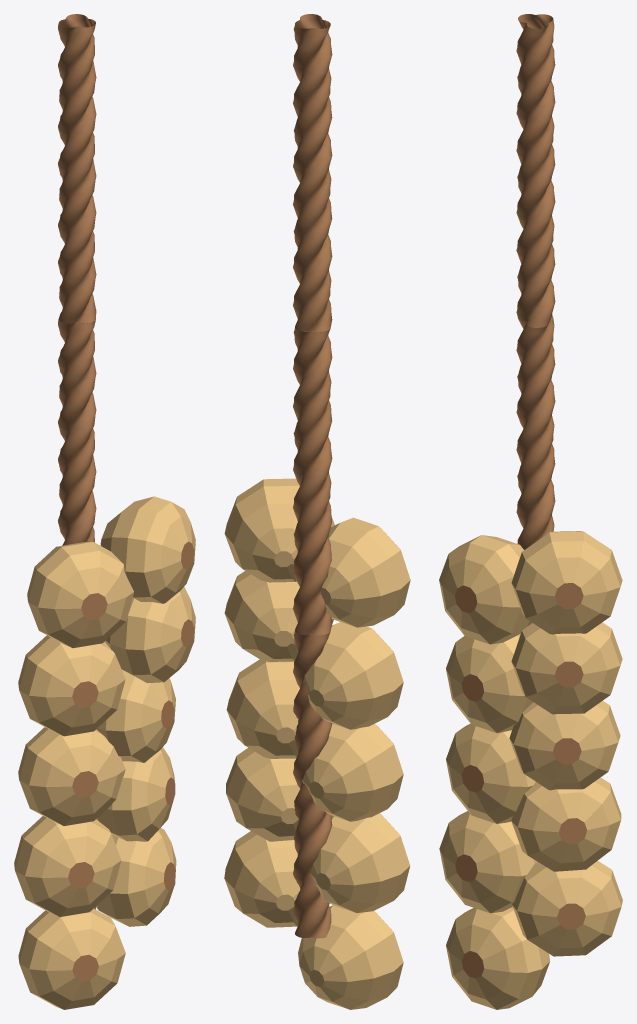
Rendered from Corda 3 + aglio fbx.fbx.
3 views of the same model, side by side, from view 1: azimuth 30°, elevation 25°; view 2: azimuth 150°, elevation 25°; view 3: azimuth 330°, elevation 25° (orthographic). The views are drawn at different scales.
Visible parts, largest first — view 1: Garlic.003, Rope 0 .002; view 2: Garlic.003, Rope 0 .002; view 3: Garlic.003, Rope 0 .002.
Boxes of the visible parts, left/top/right/bottom form: Garlic.003: left=14, top=496, right=195, bottom=1009; Rope 0 .002: left=58, top=14, right=96, bottom=909; Garlic.003: left=224, top=478, right=410, bottom=1009; Rope 0 .002: left=293, top=14, right=332, bottom=938; Garlic.003: left=439, top=531, right=622, bottom=1009; Rope 0 .002: left=516, top=14, right=555, bottom=549.
Bounding box in the file's own units: 57.18 × 305 × 33.54.
